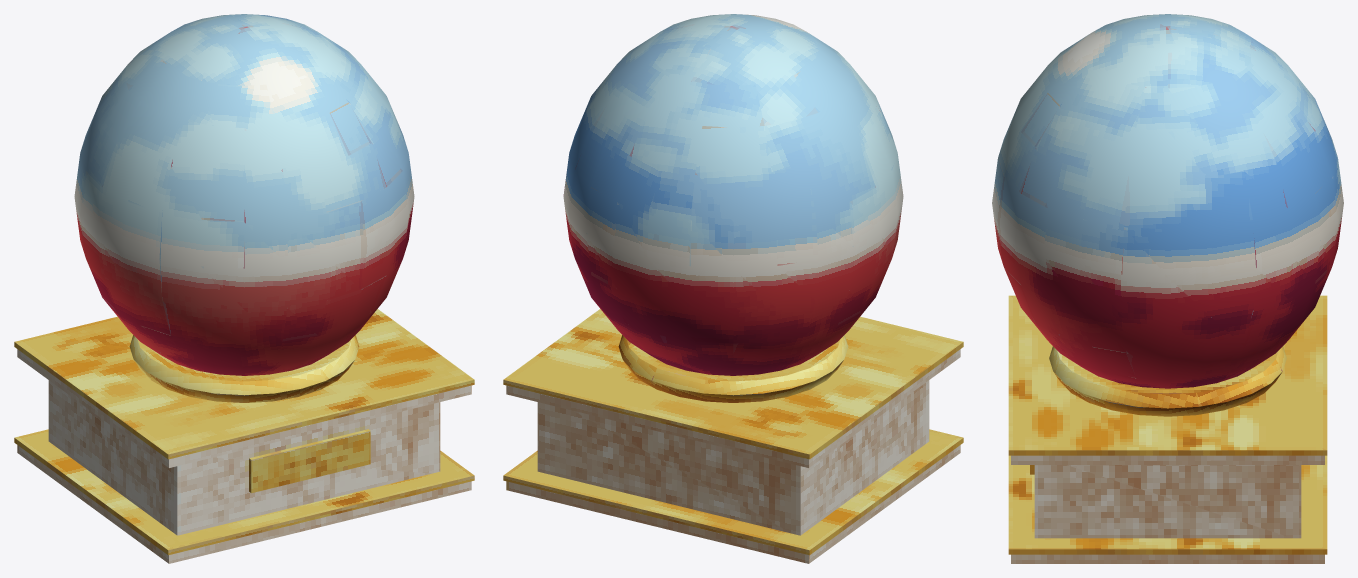
Rendered from capsule_statue_own.glb.
3 renders of one model, left to right at view 1: azimuth 30°, elevation 25°; view 2: azimuth 150°, elevation 25°; view 3: azimuth 270°, elevation 25°, orthographic. The views are drawn at different scales.
Parts seen in each view (by area): view 1: mesh; view 2: mesh; view 3: mesh.
Boxes of the visible parts, left/top/right/bottom form: mesh: left=14, top=14, right=474, bottom=563; mesh: left=503, top=14, right=963, bottom=563; mesh: left=992, top=14, right=1343, bottom=563.
Bounding box in the file's own units: 0.7722 × 1.07 × 0.7421.
1 material, 1 textured.
